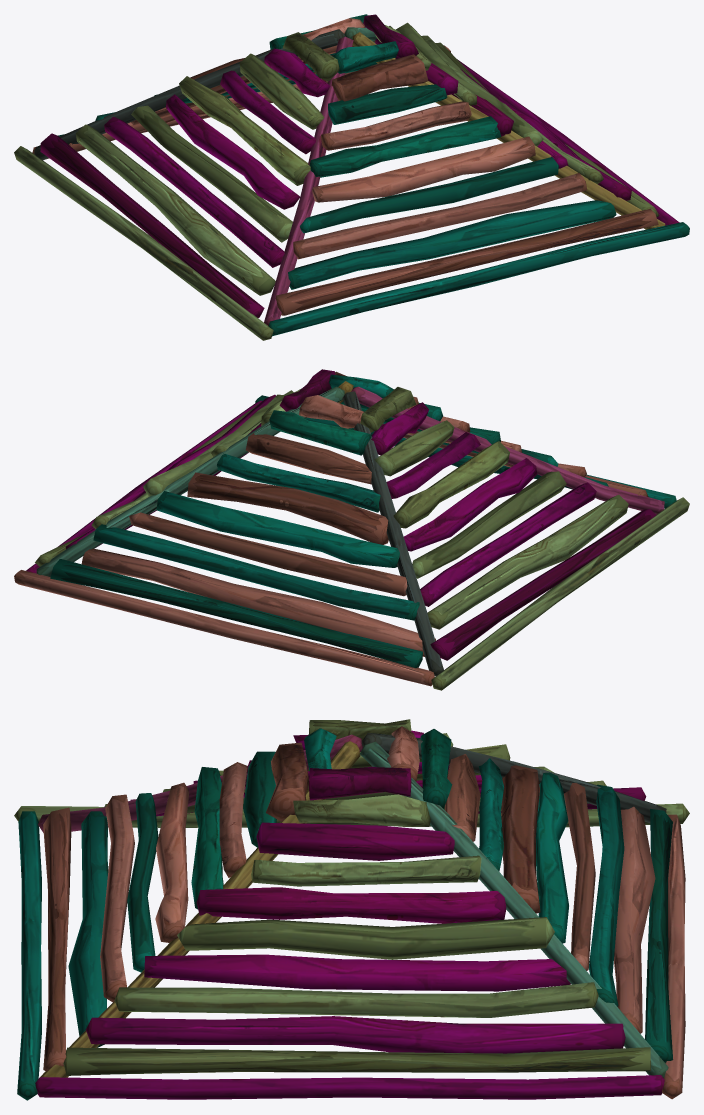
File: buildRoof.glb
3 views of the same model, one above another, from view 1: azimuth 30°, elevation 25°; view 2: azimuth 150°, elevation 25°; view 3: azimuth 270°, elevation 25° (orthographic). The views are drawn at different scales.
Parts seen in each view (by area): view 1: PBW_W1_RoofC; view 2: PBW_W1_RoofC; view 3: PBW_W1_RoofC.
Boxes of the visible parts, <box> form: PBW_W1_RoofC: <box>14,14,689,340</box>; PBW_W1_RoofC: <box>14,369,689,690</box>; PBW_W1_RoofC: <box>14,719,689,1100</box>.
Bounding box in the file's own units: 5.12 × 1.89 × 5.14.
1 material, 1 textured.
